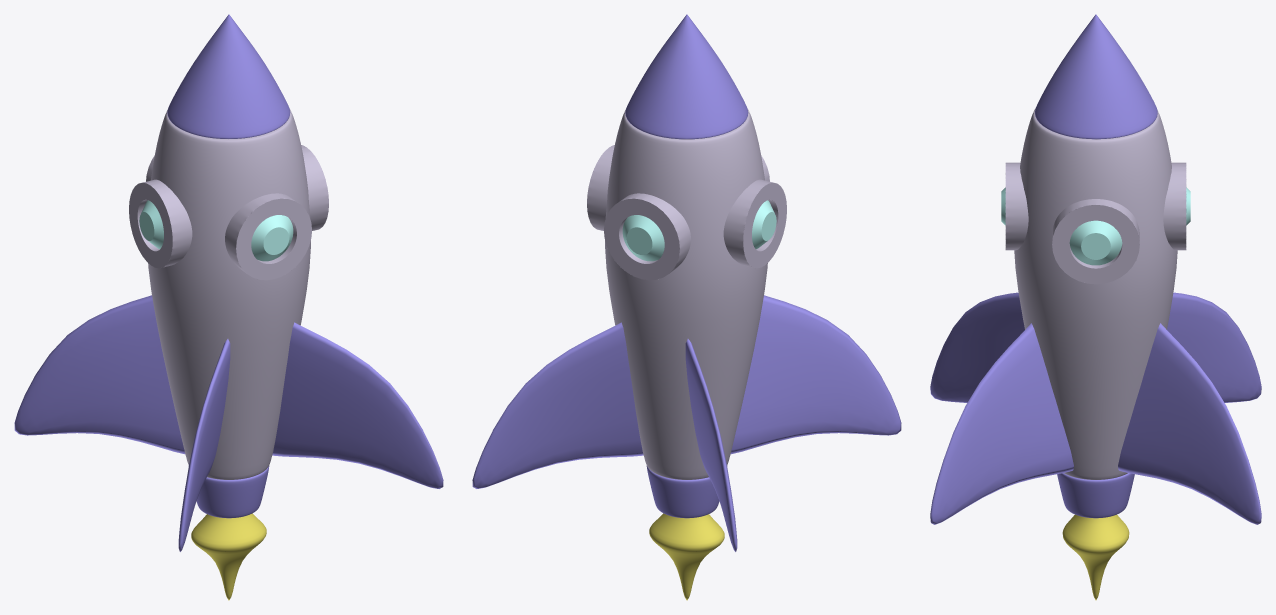
Rendered from rocke1.fbx.
The picture shows the model from 3 angles, left to right: view 1: azimuth 30°, elevation 25°; view 2: azimuth 150°, elevation 25°; view 3: azimuth 270°, elevation 25°; orthographic projection.
Parts seen in each view (by area): view 1: Circle, Circle.001, Circle.003, Circle.002, Circle.004; view 2: Circle, Circle.001, Circle.003, Circle.002, Circle.004; view 3: Circle, Circle.001, Circle.002, Circle.003, Circle.004.
Boxes of the visible parts, x1=… form: Circle: x1=148, y1=14, x2=310, y2=518; Circle.001: x1=14, y1=295, x2=443, y2=551; Circle.003: x1=146, y1=156, x2=311, y2=280; Circle.002: x1=129, y1=145, x2=328, y2=268; Circle.004: x1=191, y1=513, x2=266, y2=600; Circle: x1=605, y1=14, x2=767, y2=518; Circle.001: x1=472, y1=295, x2=901, y2=551; Circle.003: x1=604, y1=156, x2=769, y2=280; Circle.002: x1=587, y1=145, x2=786, y2=268; Circle.004: x1=649, y1=513, x2=724, y2=600; Circle: x1=1014, y1=14, x2=1177, y2=518; Circle.001: x1=930, y1=292, x2=1261, y2=524; Circle.002: x1=1052, y1=199, x2=1139, y2=284; Circle.003: x1=1001, y1=162, x2=1190, y2=250; Circle.004: x1=1062, y1=514, x2=1129, y2=600.
Size of the model in its own units: 800 by 1702 by 871.
